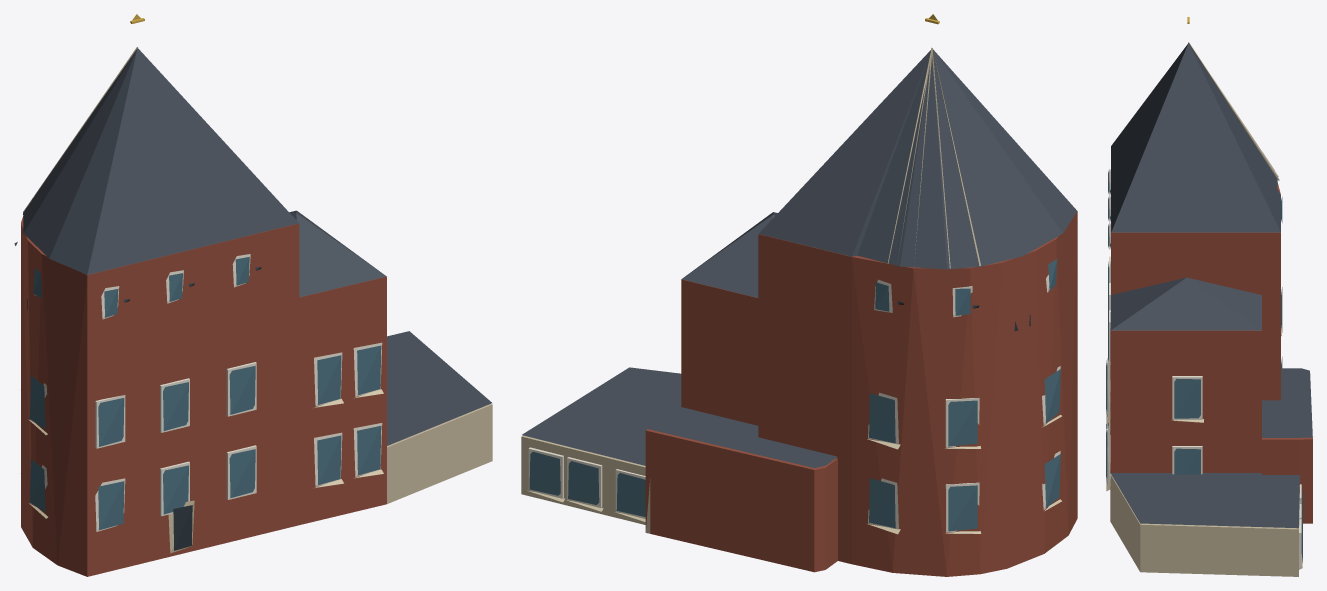
The model's file is schreierstoren.lod1.glb.
3 views of the same model, side by side, from view 1: azimuth 30°, elevation 25°; view 2: azimuth 150°, elevation 25°; view 3: azimuth 270°, elevation 25° (orthographic). The views are drawn at different scales.
Parts seen in each view (by area): view 1: schreierstoren; view 2: schreierstoren; view 3: schreierstoren.
Part boxes in pixels (bbox=[...]): schreierstoren: bbox=[14, 14, 492, 576]; schreierstoren: bbox=[521, 14, 1077, 576]; schreierstoren: bbox=[1106, 17, 1312, 576].
Size of the model in its own units: 22.47 by 24.28 by 10.72.
